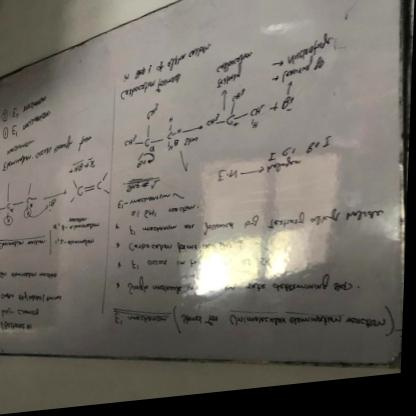Handwritten text: (141, 212, 389, 243), (127, 277, 357, 308), (0, 129, 101, 177), (182, 317, 391, 340), (114, 73, 187, 108)
Whiteboard: (0, 0, 404, 378)
